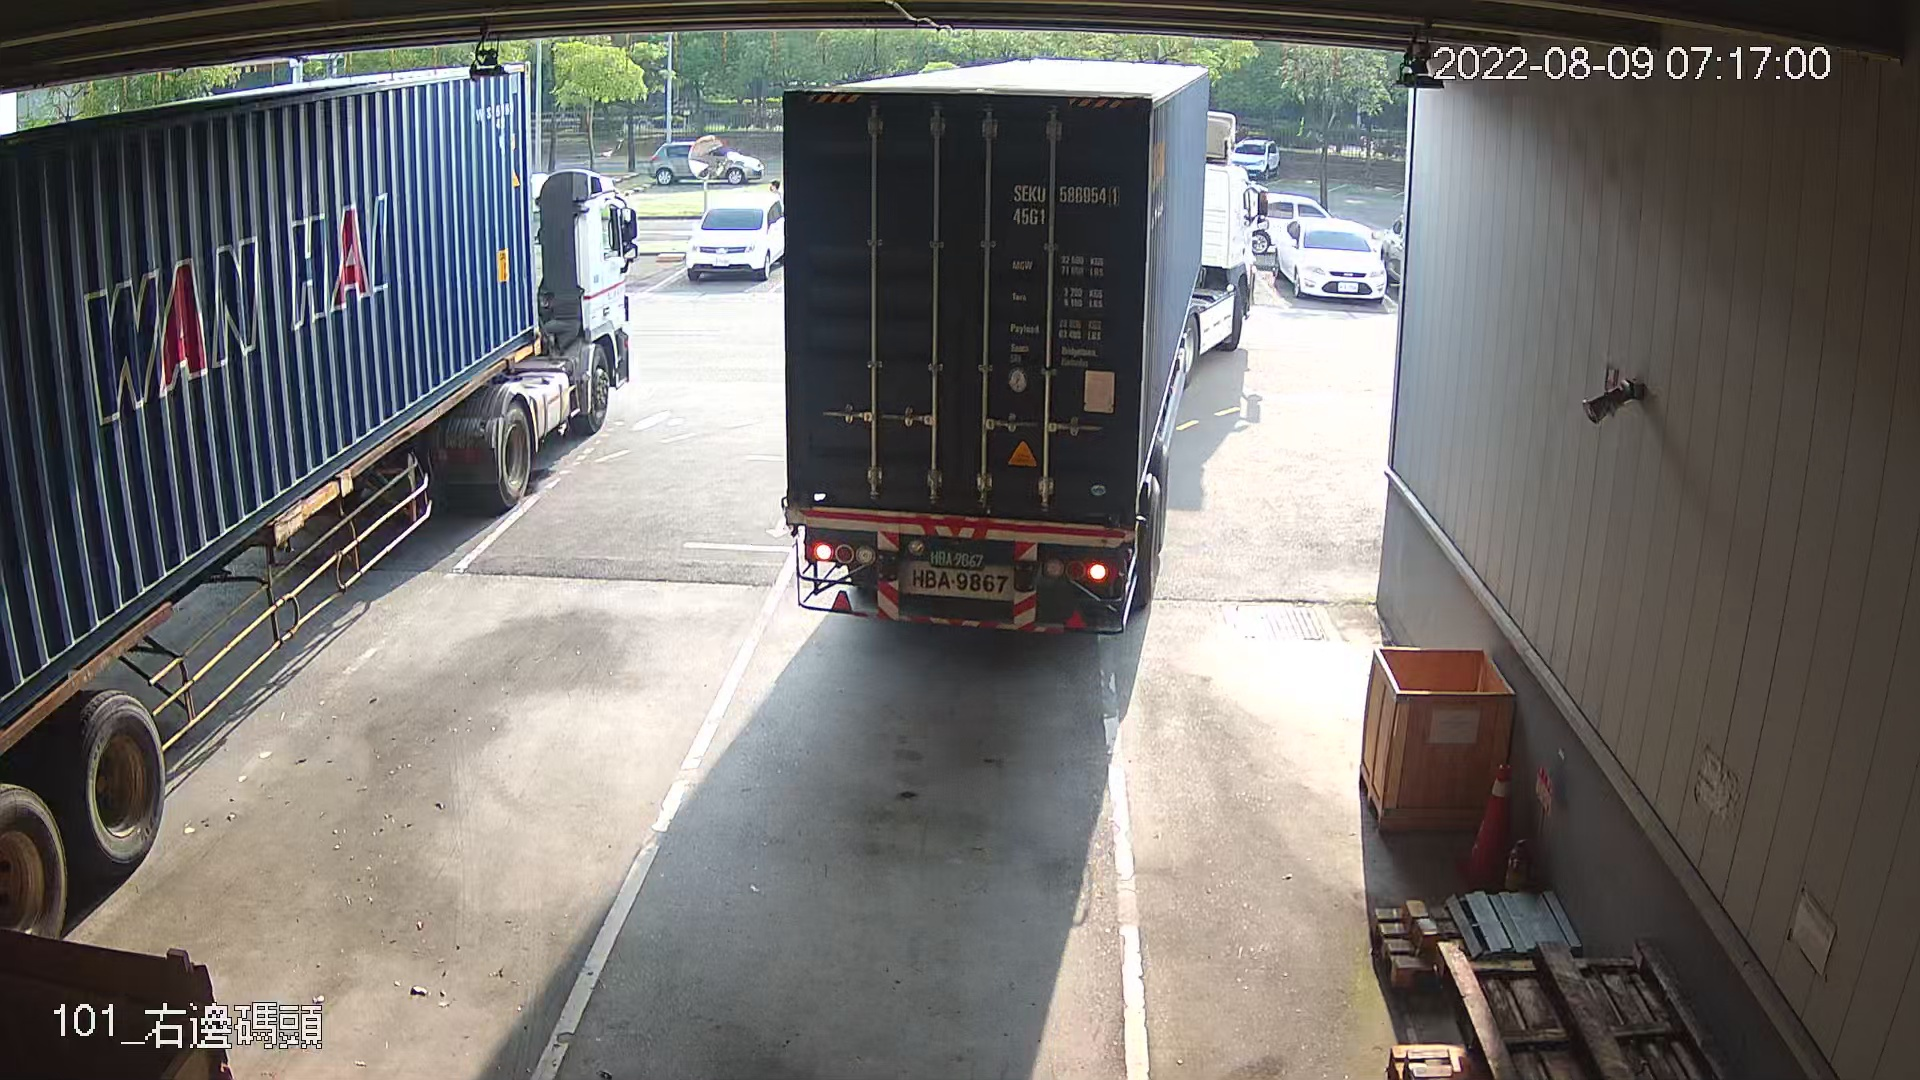container: (1004, 173, 1125, 233)
